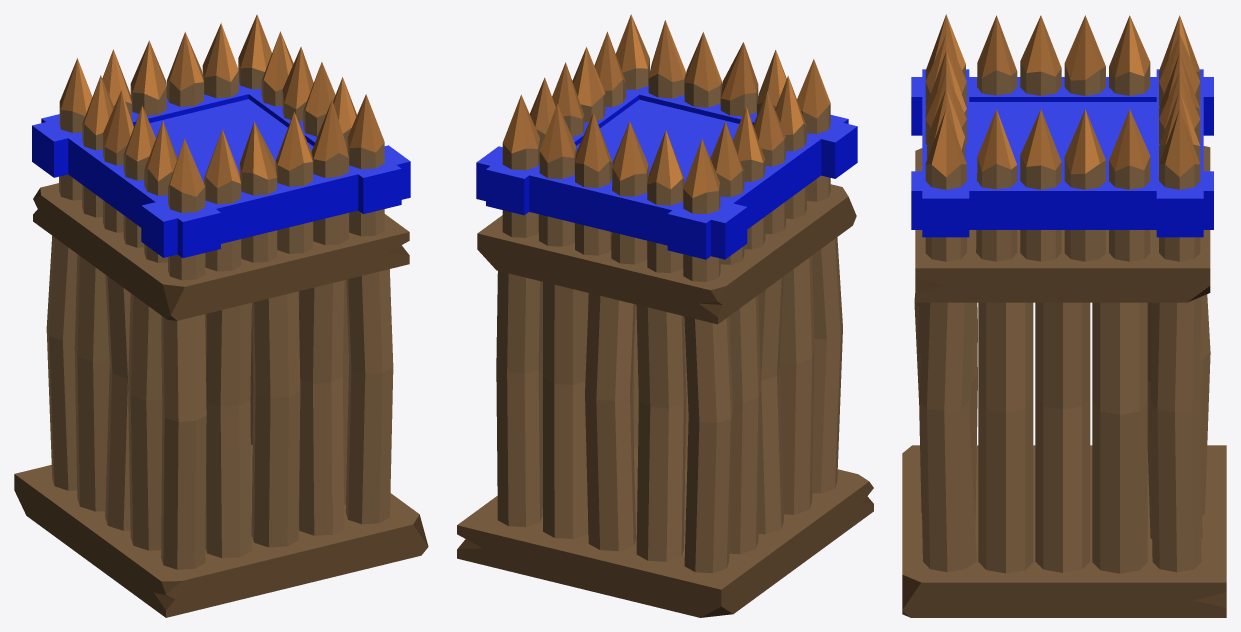
Rendered from Tower1 1.fbx.
3 views of the same model, side by side, from view 1: azimuth 30°, elevation 25°; view 2: azimuth 150°, elevation 25°; view 3: azimuth 270°, elevation 25° (orthographic). The views are drawn at different scales.
Parts seen in each view (by area): view 1: Tower1; view 2: Tower1; view 3: Tower1.
Boxes of the visible parts, <box> form: Tower1: <box>14,14,428,617</box>; Tower1: <box>457,14,873,617</box>; Tower1: <box>902,14,1226,617</box>.
Bounding box in the file's own units: 282 × 470 × 282.
